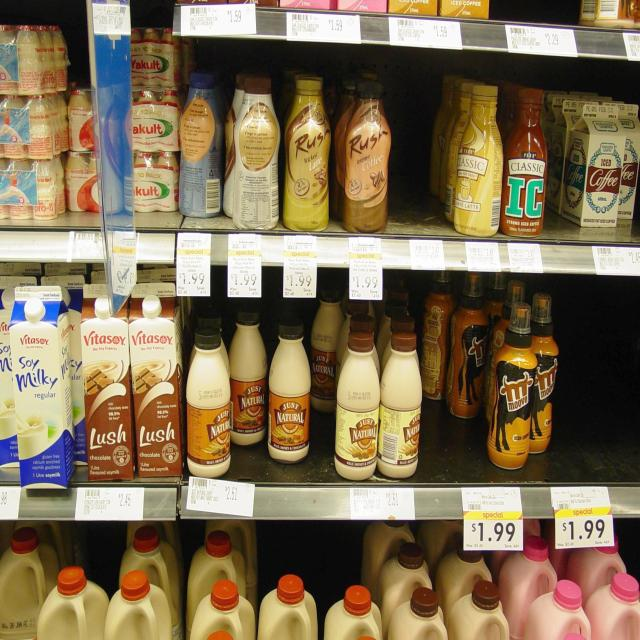empty_space: (568, 304, 640, 468), (395, 83, 444, 217), (434, 408, 482, 472)
